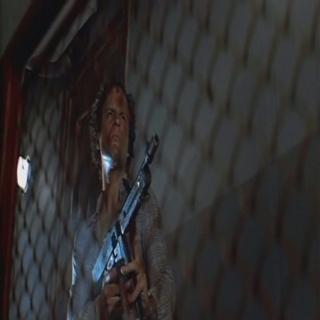gun: (83, 142, 176, 311)
